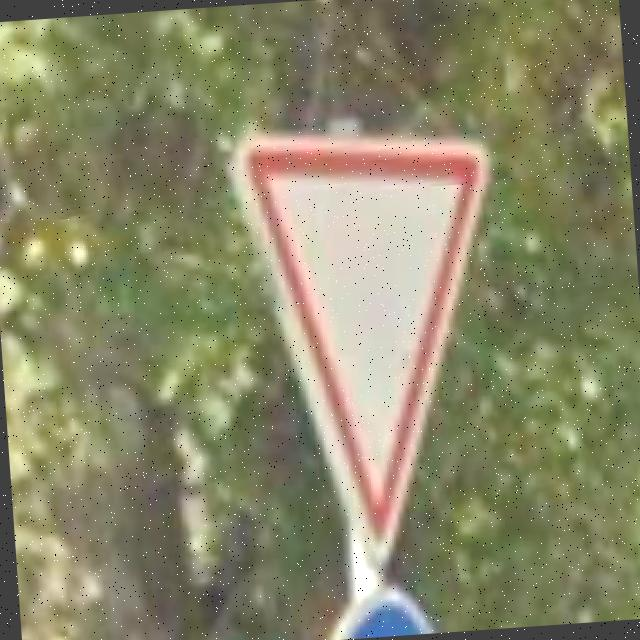Ustap pierwszenstwa: (232, 115, 518, 575)
